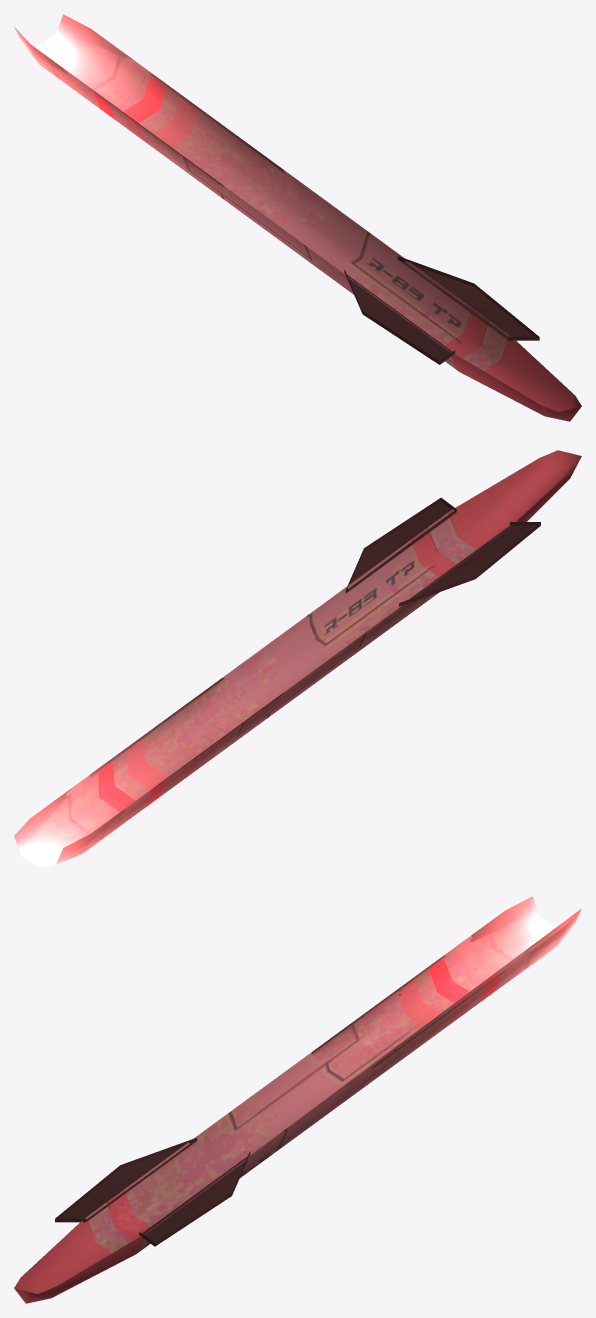
The model's file is Rocket.fbx.
3 renders of one model, top to bottom at view 1: azimuth 30°, elevation 25°; view 2: azimuth 150°, elevation 25°; view 3: azimuth 330°, elevation 25°, orthographic.
Parts seen in each view (by area): view 1: Rocket; view 2: Rocket; view 3: Rocket.
Boxes of the visible parts, box(x1,y1,x2,y2) form: Rocket: box(14, 14, 581, 421); Rocket: box(14, 450, 581, 867); Rocket: box(14, 896, 581, 1303).
Bounding box in the file's own units: 6.64 × 1.93 × 54.75.
Materials: 1 (1 with a texture image).
